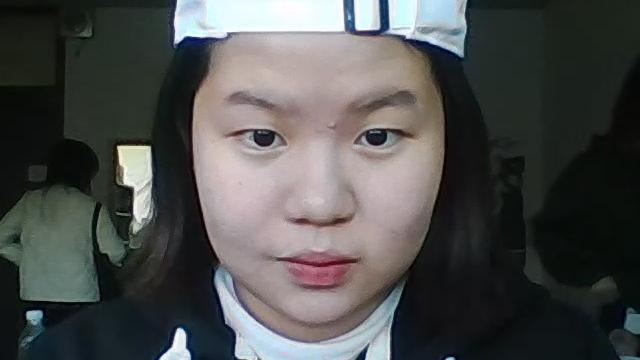eye: (366, 127, 387, 145), (254, 128, 274, 145)
iris: (240, 128, 286, 148), (355, 130, 401, 149)
